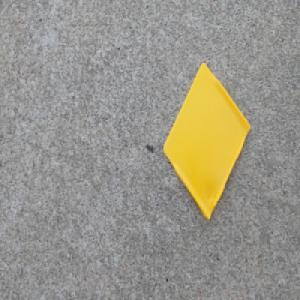PlasticPart: (162, 61, 251, 221)
